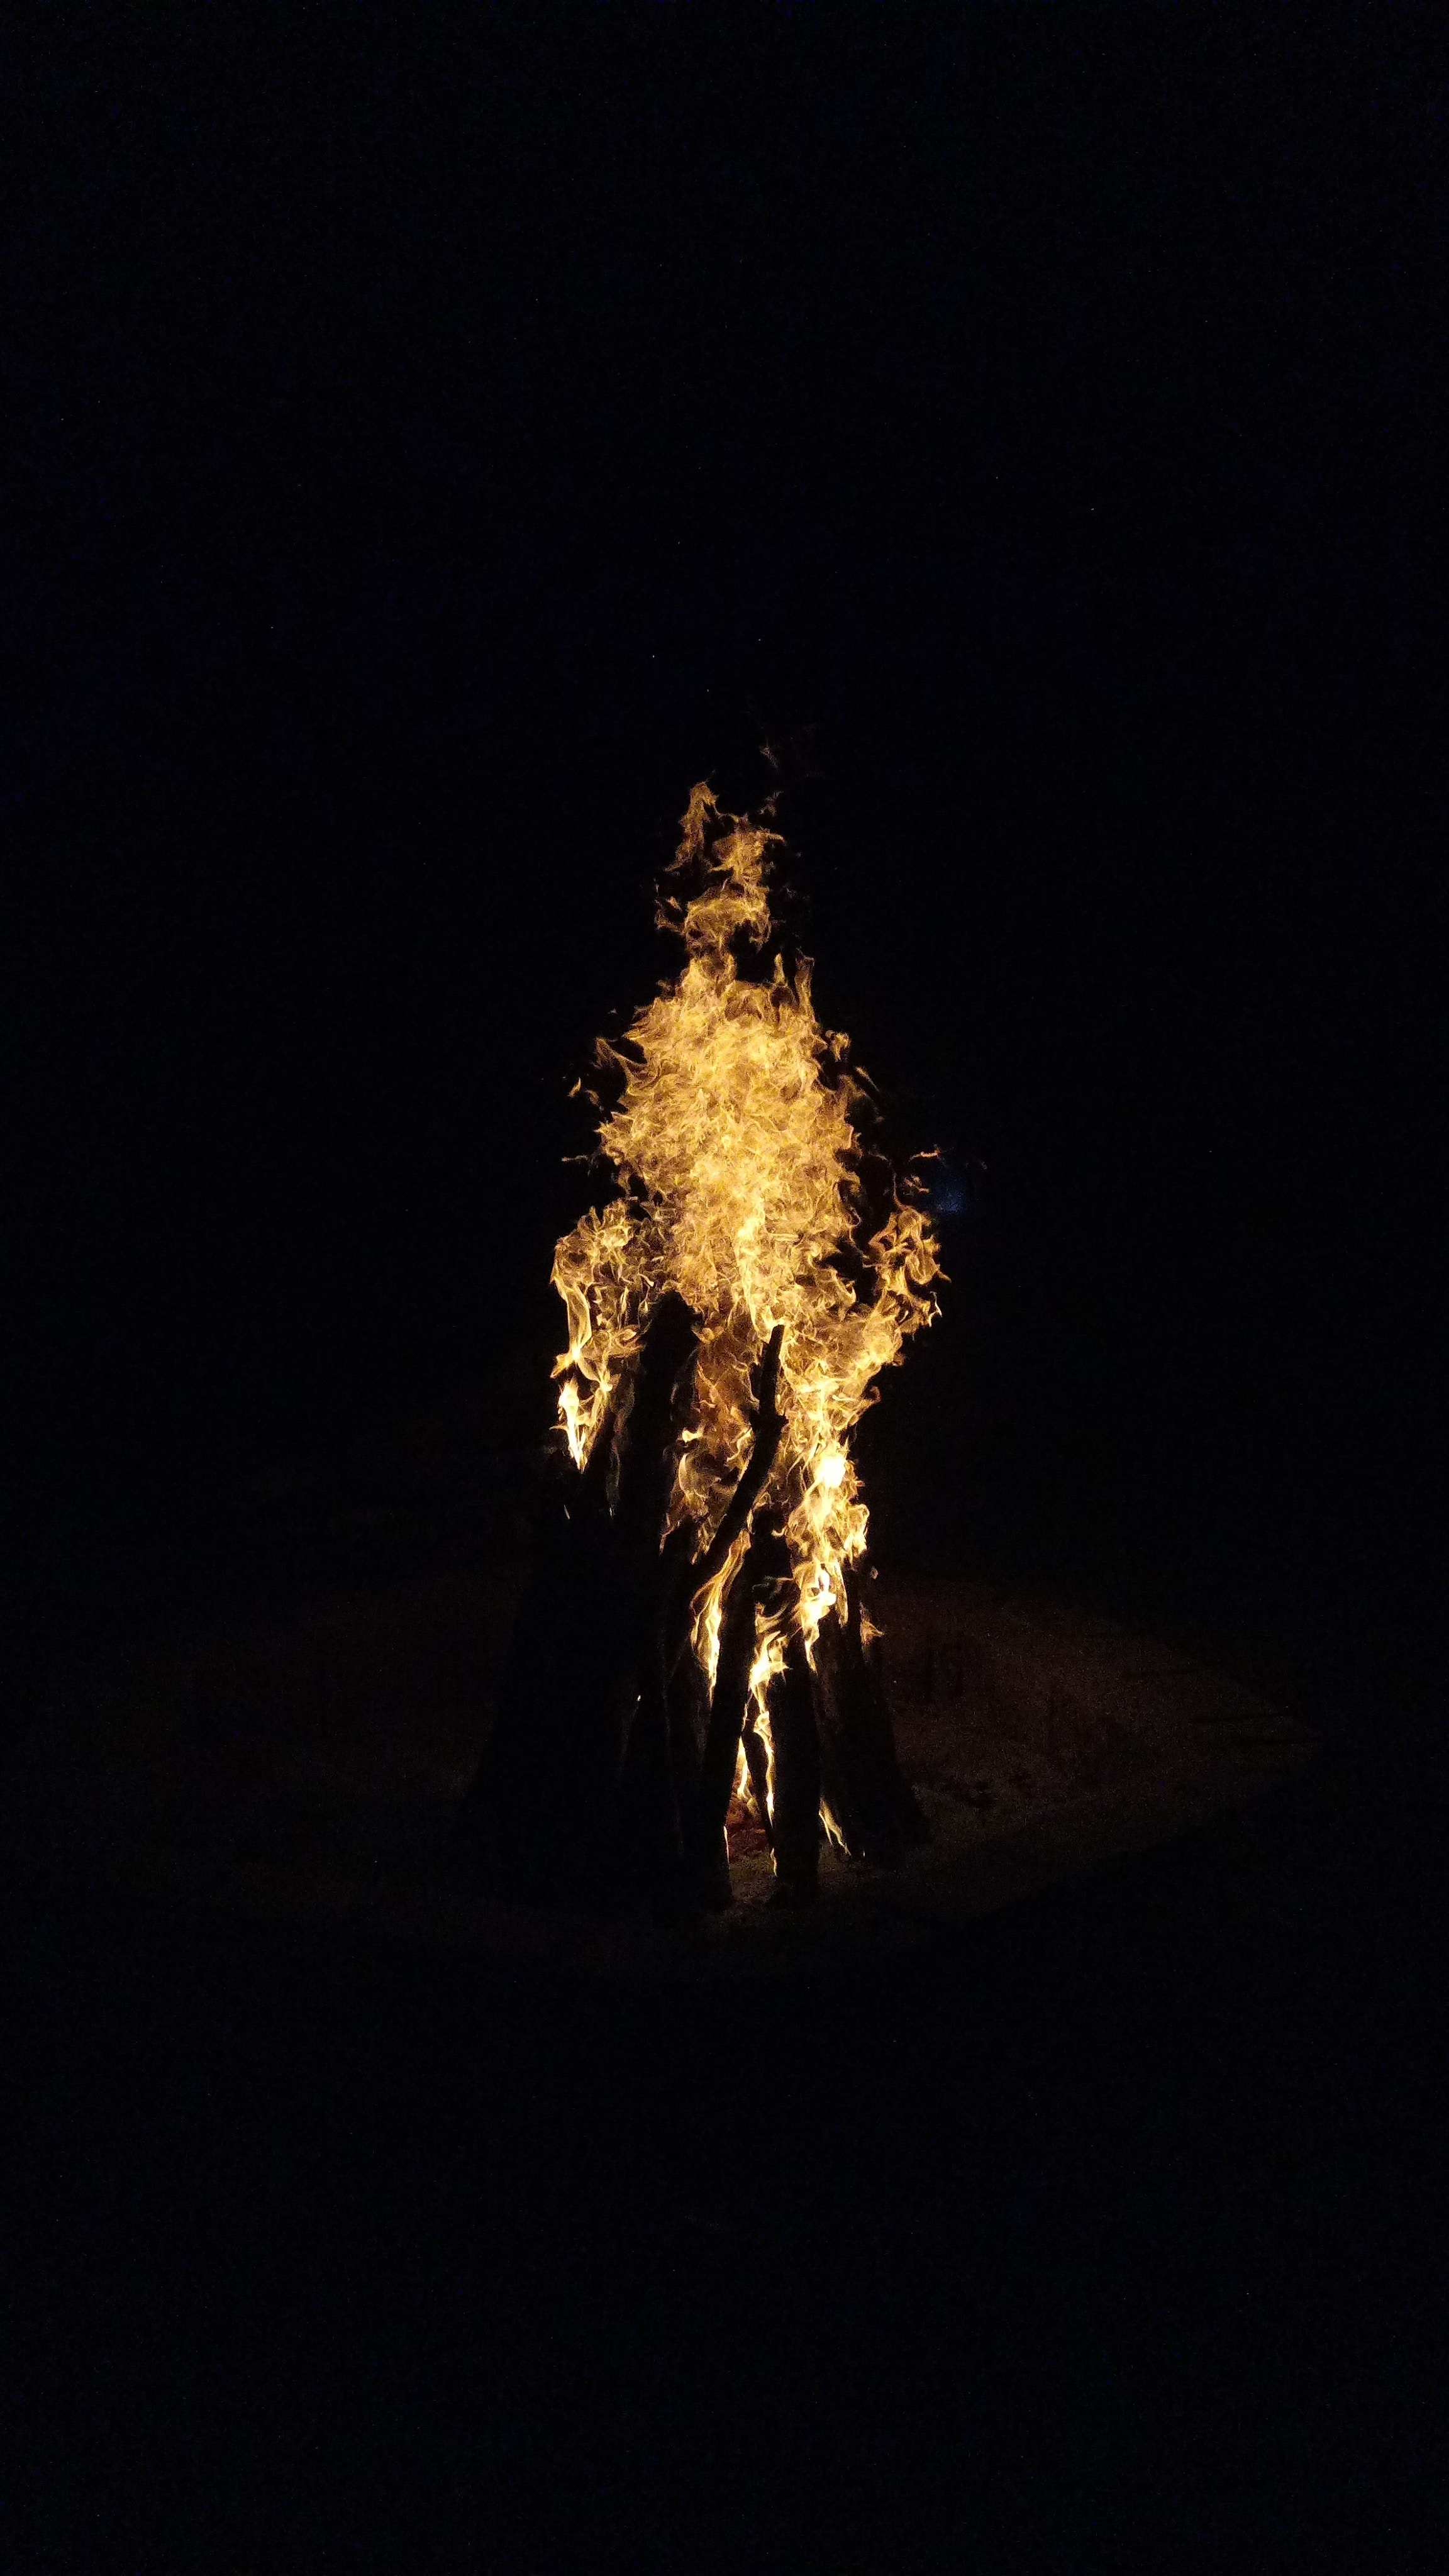fire: (531, 731, 968, 1890)
